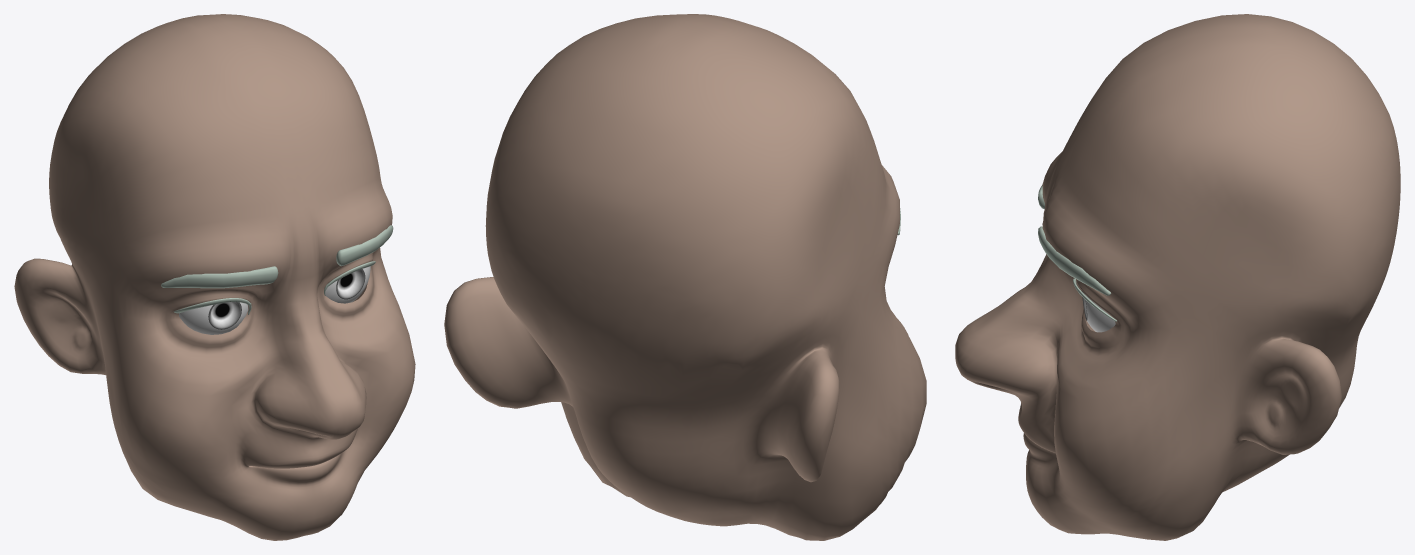
3 views of the same model, side by side, from view 1: azimuth 30°, elevation 25°; view 2: azimuth 150°, elevation 25°; view 3: azimuth 270°, elevation 25° (orthographic). The views are drawn at different scales.
Visible parts, largest first — view 1: skin, eyes, brows, lashes; view 2: skin; view 3: skin, brows, eyes.
Boxes of the visible parts, x1,y1,x2,y2 form: skin: (14,14,415,540); eyes: (179,266,370,334); brows: (161,225,393,288); lashes: (173,261,375,314); skin: (444,14,926,540); skin: (955,14,1400,540); brows: (1038,185,1111,295); eyes: (1082,291,1115,332).
Bounding box in the file's own units: 1.5 × 2 × 1.66.
9 materials, 1 textured.
